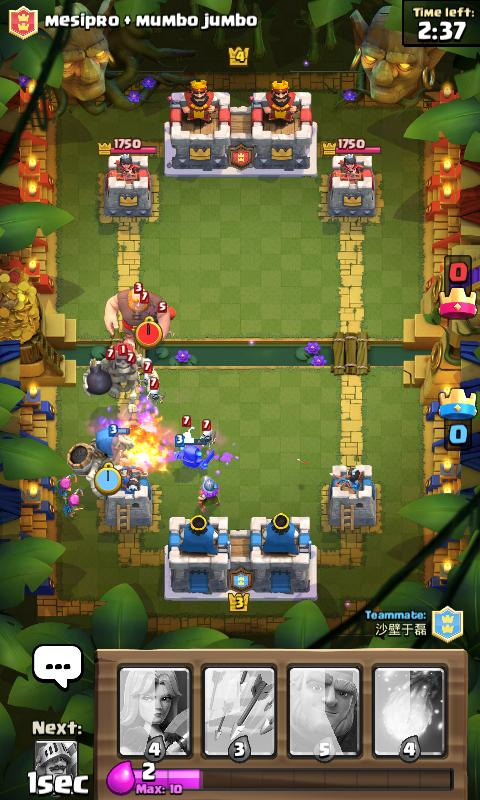ally_archer: (61, 487, 85, 519), (52, 470, 78, 498)
ally_giant_skeleton: (65, 423, 134, 498)
ally_mini_pekka: (173, 433, 214, 469)
ally_musketeer: (195, 474, 220, 513)
enemy_bomber: (157, 300, 177, 321)
enemy_giant: (102, 281, 170, 349)
enemy_giant_skeleton: (81, 342, 159, 400)
enemy_skeleton: (145, 377, 166, 407), (198, 418, 216, 448), (141, 361, 154, 388), (180, 414, 194, 438)
